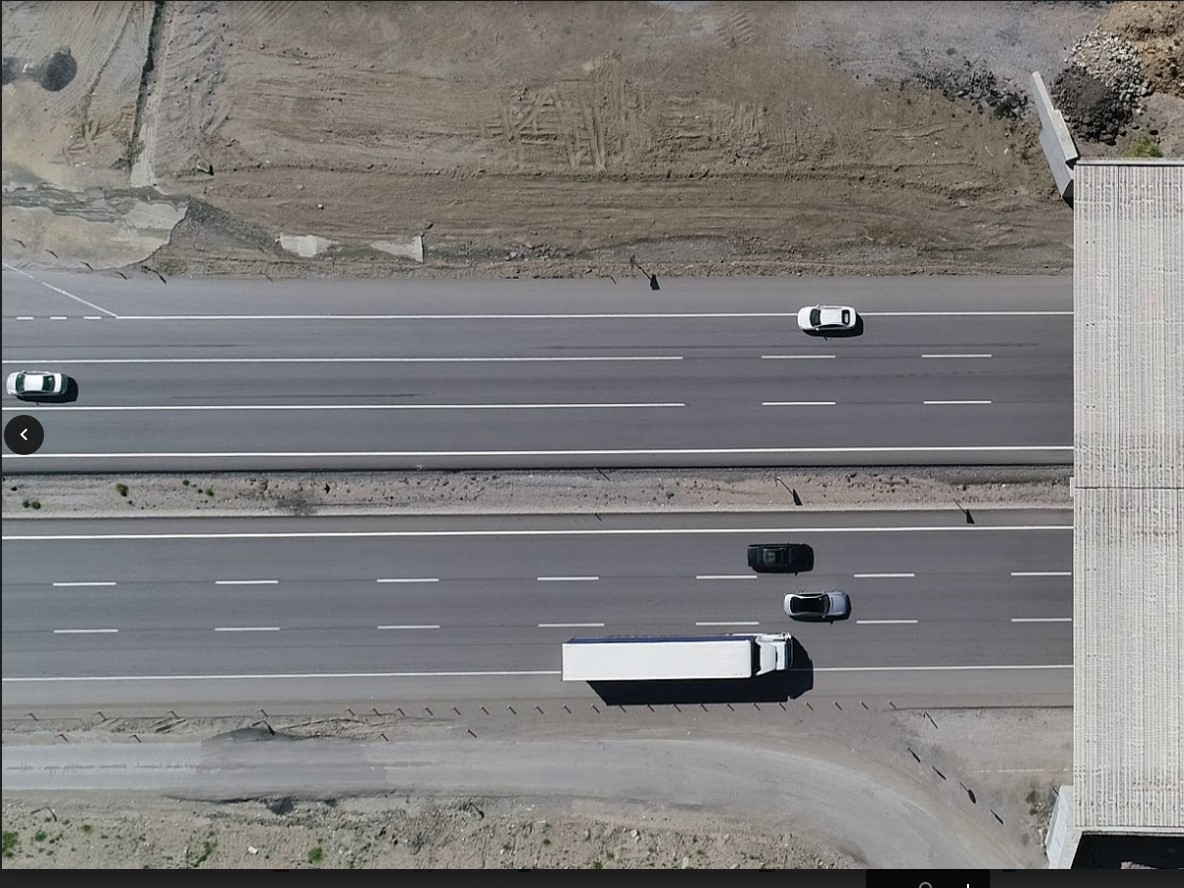araba: (749, 541, 814, 571), (6, 371, 71, 401), (785, 591, 849, 619), (797, 306, 859, 331)
kamyon: (561, 634, 795, 680)
